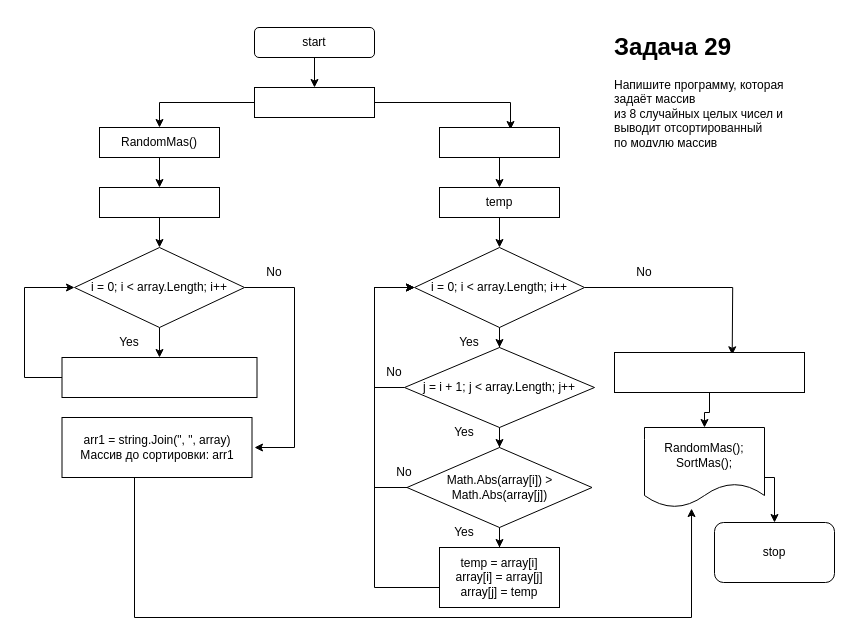
This 852x643 diagram has some shape labels left out. The shapes that lost their labels are listed below. From the top down, each one's box as (x1, y1, x2, y2) in pixels, then its label:
(254, 86, 374, 118): array = new int[8]
(438, 126, 560, 158): SortMas()
(98, 186, 220, 218): random
(61, 356, 257, 398): array[i] = random.Next(-99, 99)
(614, 352, 804, 392): arr2 = string.Join(", ", array) Массив после сортировки: arr2
